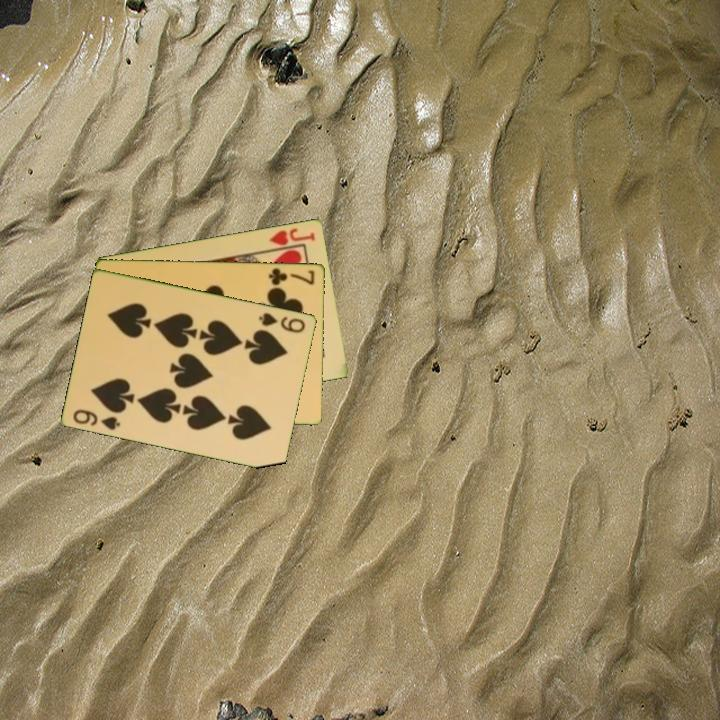7c: (266, 264, 317, 288)
9s: (70, 405, 123, 433), (255, 309, 308, 336)
Jh: (265, 224, 318, 248)
